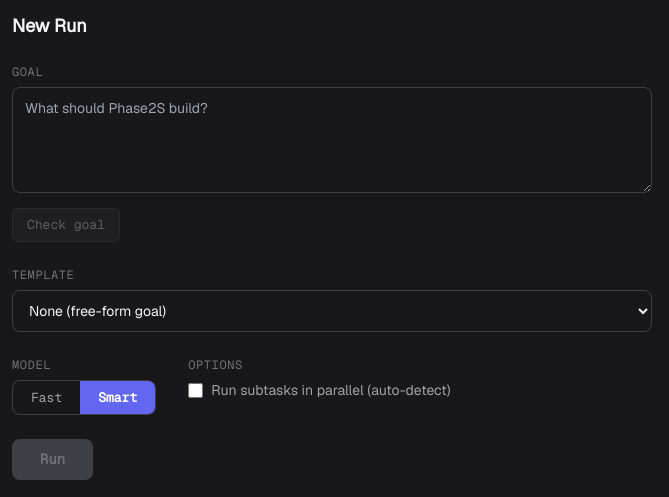
Scenario: NewRunPage › Run button becomes enabled when goal has text
In the text box labelled "Goal": [332, 140] box 12,87 -> 652,193, type "Build a login page"
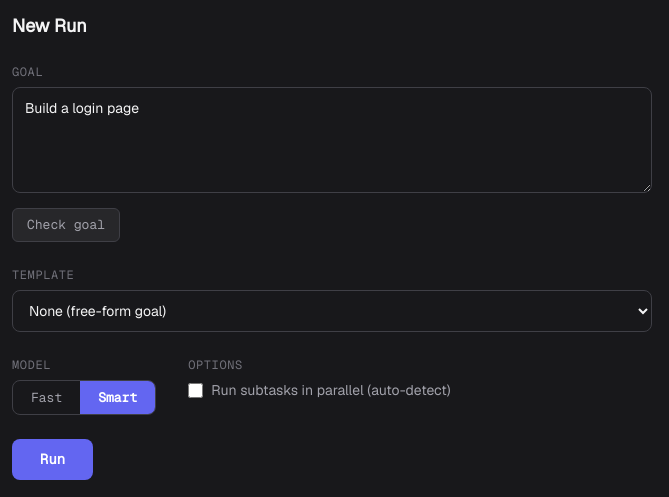
Expected: the button "Run" is enabled, 12,439 -> 93,480
